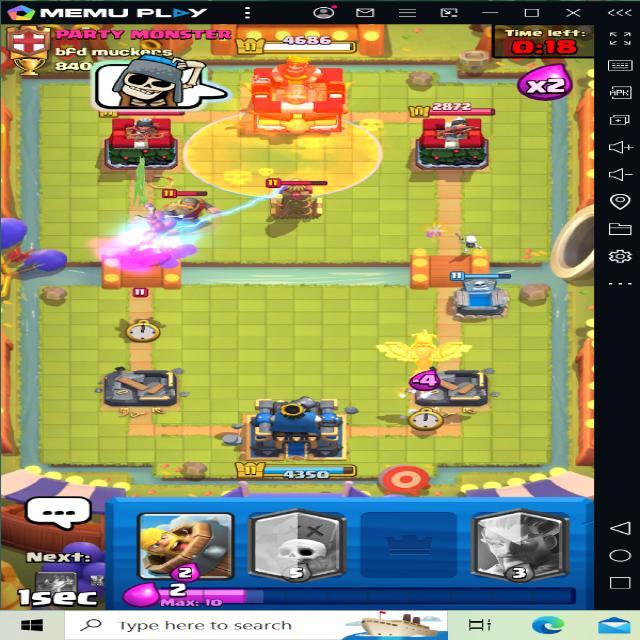knight: (162, 179, 225, 238)
tesla: (262, 168, 348, 221)
